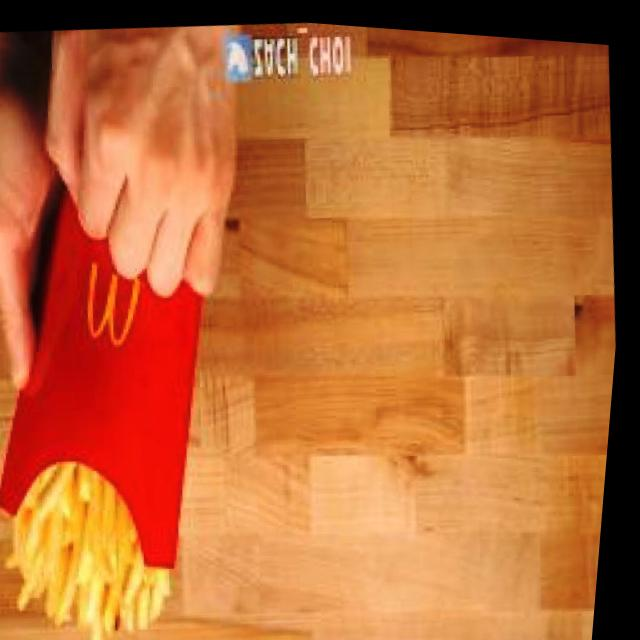french fries: (0, 448, 185, 640)
